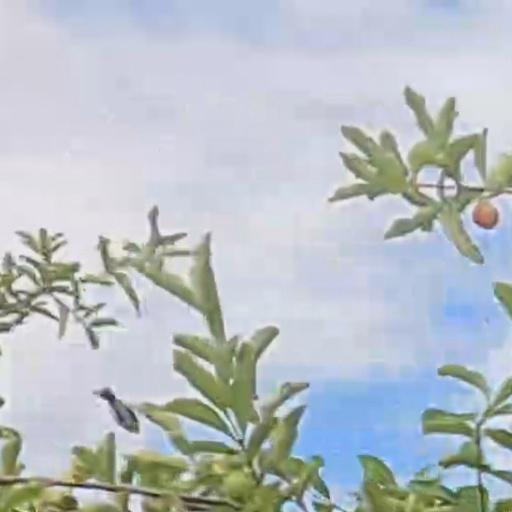acerola_vermelha: (473, 203, 499, 231)
